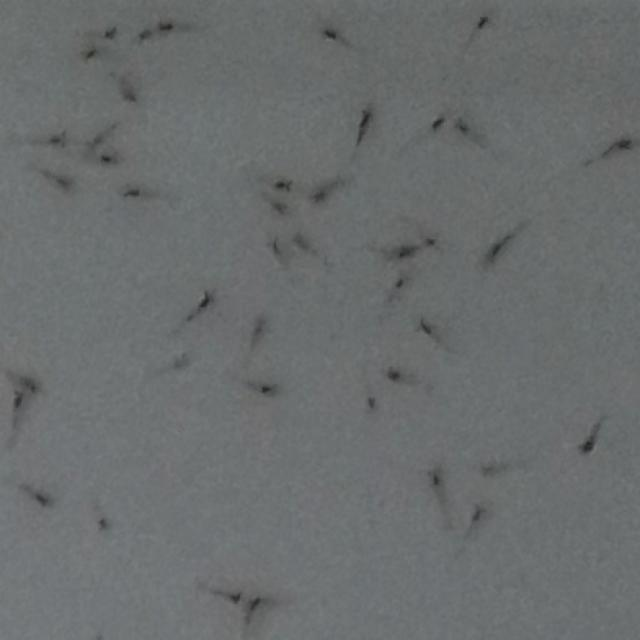shrimp-seed: (483, 232, 516, 264), (384, 240, 419, 264), (577, 423, 601, 455), (194, 287, 218, 313), (251, 312, 271, 337), (425, 467, 447, 489), (48, 129, 70, 149), (56, 173, 76, 195), (394, 270, 414, 292), (412, 314, 432, 334), (172, 352, 192, 372), (20, 375, 40, 395), (476, 460, 496, 480), (100, 150, 122, 168), (264, 233, 281, 256), (80, 45, 99, 65), (473, 12, 492, 32), (10, 388, 28, 409), (36, 489, 54, 510), (612, 136, 634, 152), (259, 382, 281, 398), (246, 594, 262, 616), (273, 177, 294, 193), (322, 26, 340, 44), (120, 85, 138, 103), (290, 230, 308, 248), (386, 364, 404, 382), (121, 183, 139, 200), (95, 515, 112, 533), (430, 114, 446, 132), (453, 116, 469, 134), (101, 25, 119, 40), (364, 392, 378, 411), (311, 187, 326, 204), (82, 137, 96, 155), (360, 108, 374, 126), (470, 503, 484, 521), (422, 236, 437, 252), (157, 20, 173, 34), (272, 200, 288, 214), (227, 590, 241, 604), (138, 28, 150, 42)
